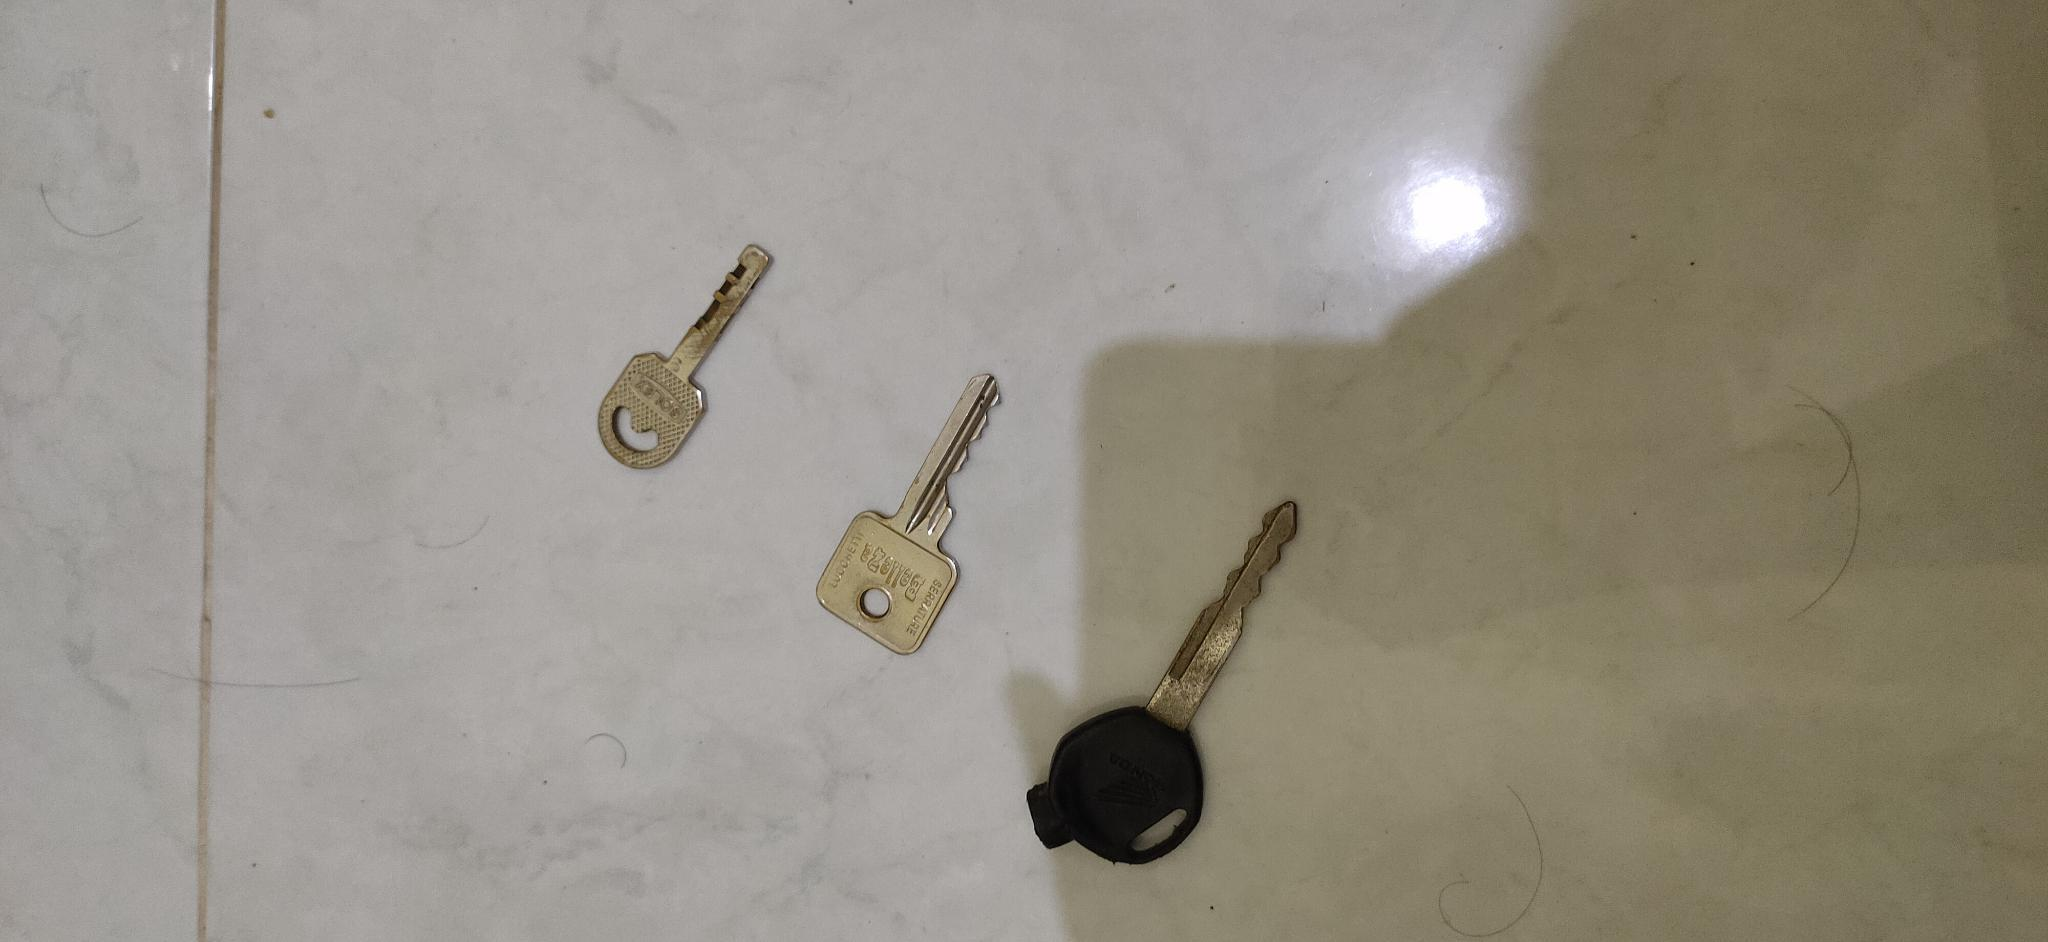keys: (1016, 491, 1311, 874), (794, 361, 1007, 664), (586, 234, 778, 476)
